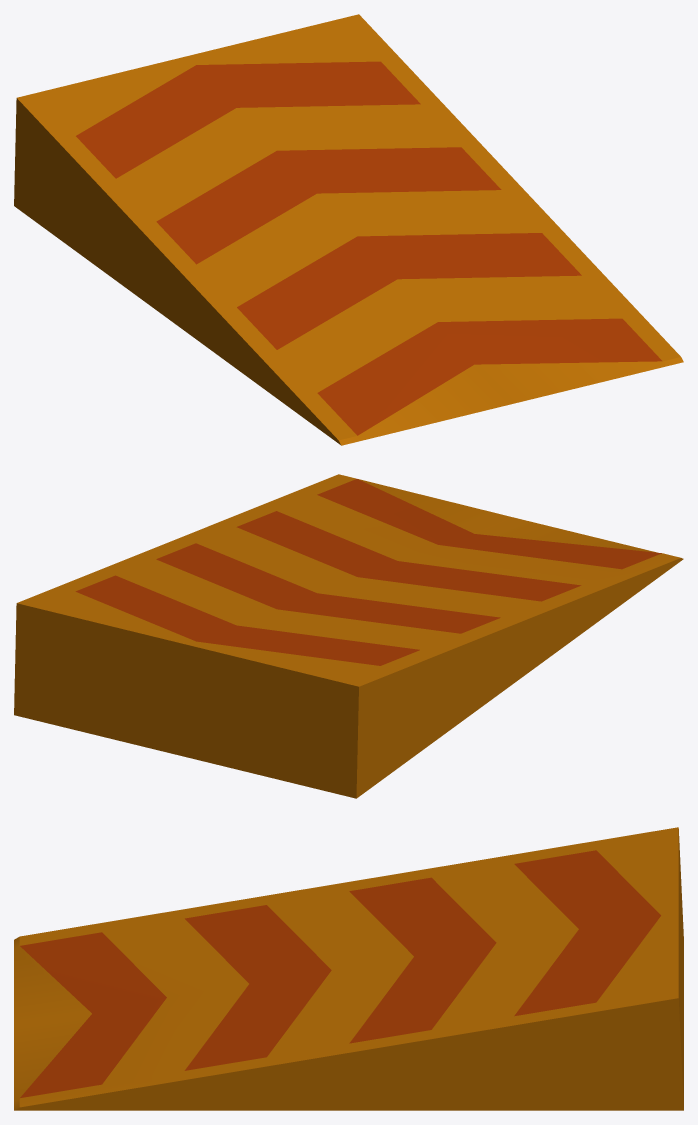
The model's file is ramp.fbx.
The picture shows the model from 3 angles, top to bottom: view 1: azimuth 30°, elevation 25°; view 2: azimuth 150°, elevation 25°; view 3: azimuth 270°, elevation 25°; orthographic projection. The views are drawn at different scales.
Visible parts, largest first — view 1: Box001; view 2: Box001; view 3: Box001.
Boxes of the visible parts, x1,y1,x2,y2 form: Box001: [14, 14, 683, 445]; Box001: [14, 474, 683, 798]; Box001: [14, 827, 683, 1110].
Size of the model in its own units: 30.15 by 9.26 by 49.93.
